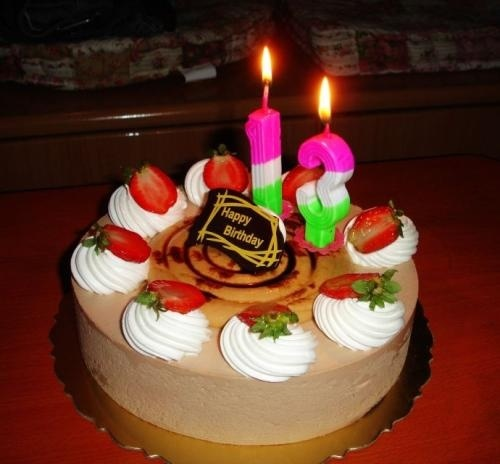fire: (314, 72, 335, 126), (257, 43, 275, 81)
